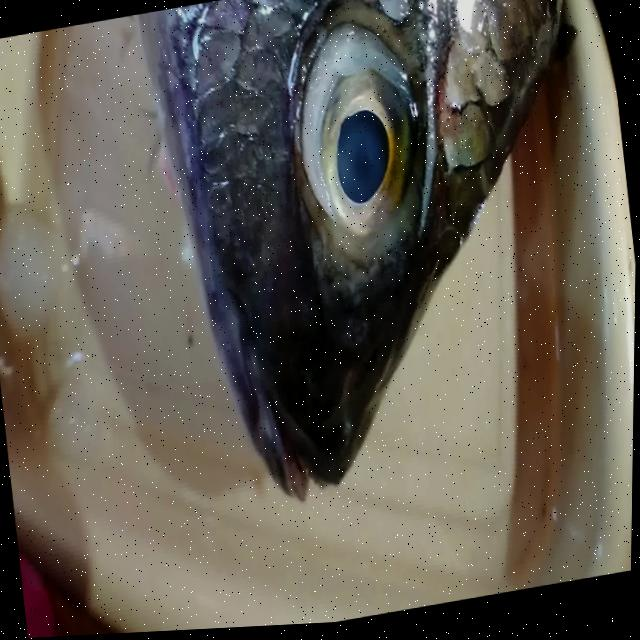Fresh: (271, 0, 442, 284)
